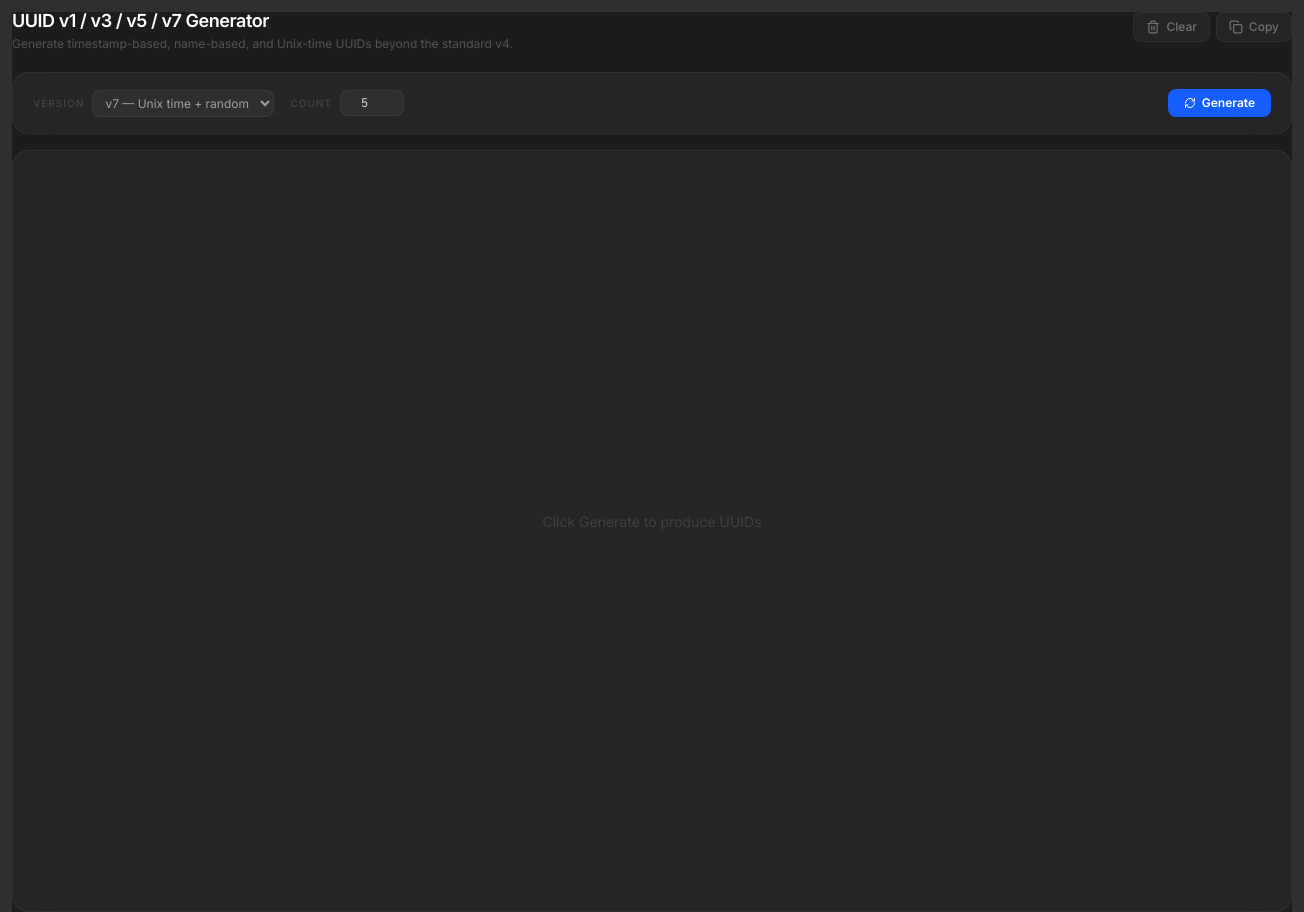
Test: UuidVersionsGenerator › generates v7 UUIDs by default, respecting quantity
Replace the text in the number field showing "5" with "3": (372, 103) [340, 90, 404, 116]
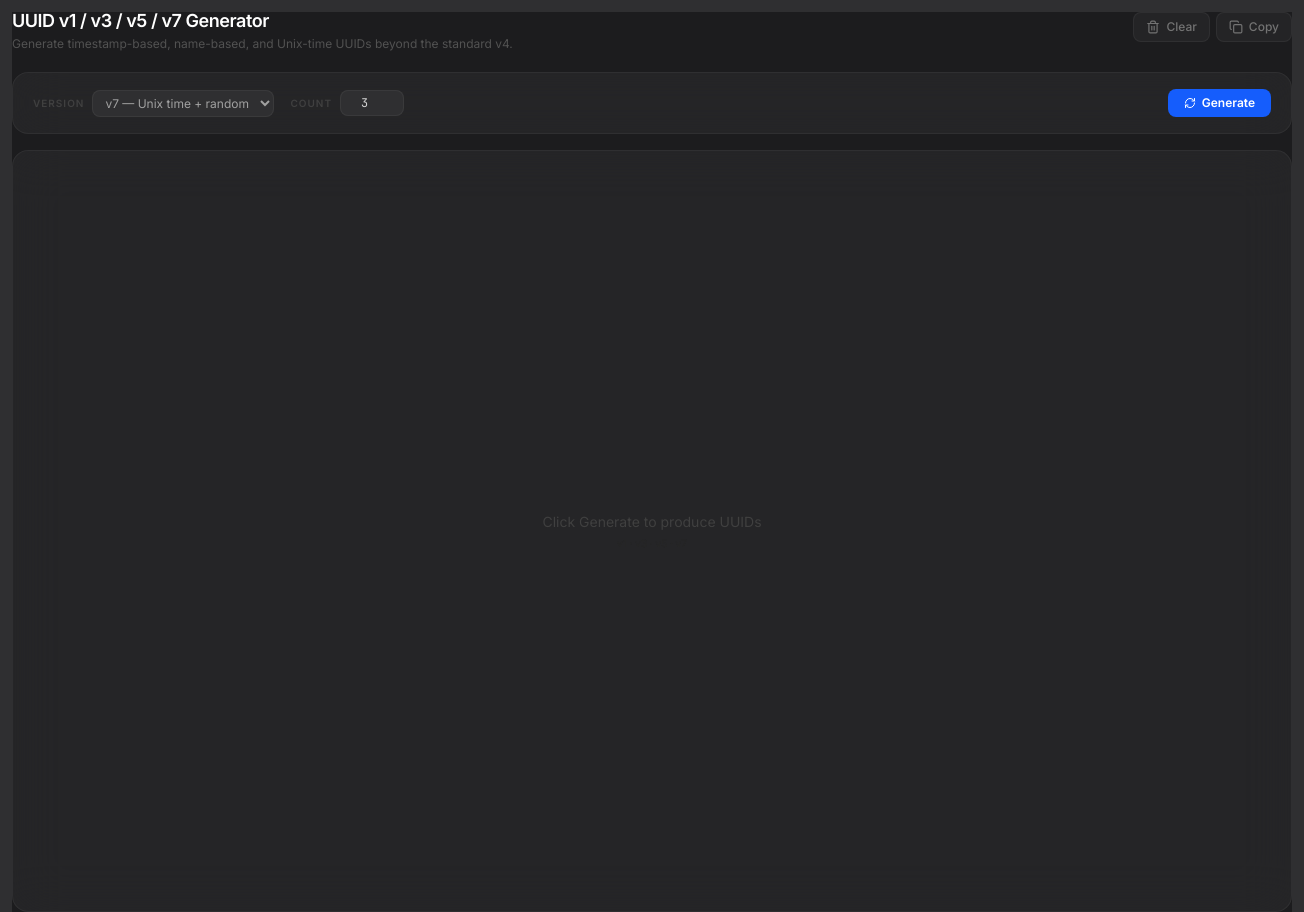
Click the button "Generate": (1219, 103) [1168, 89, 1271, 117]
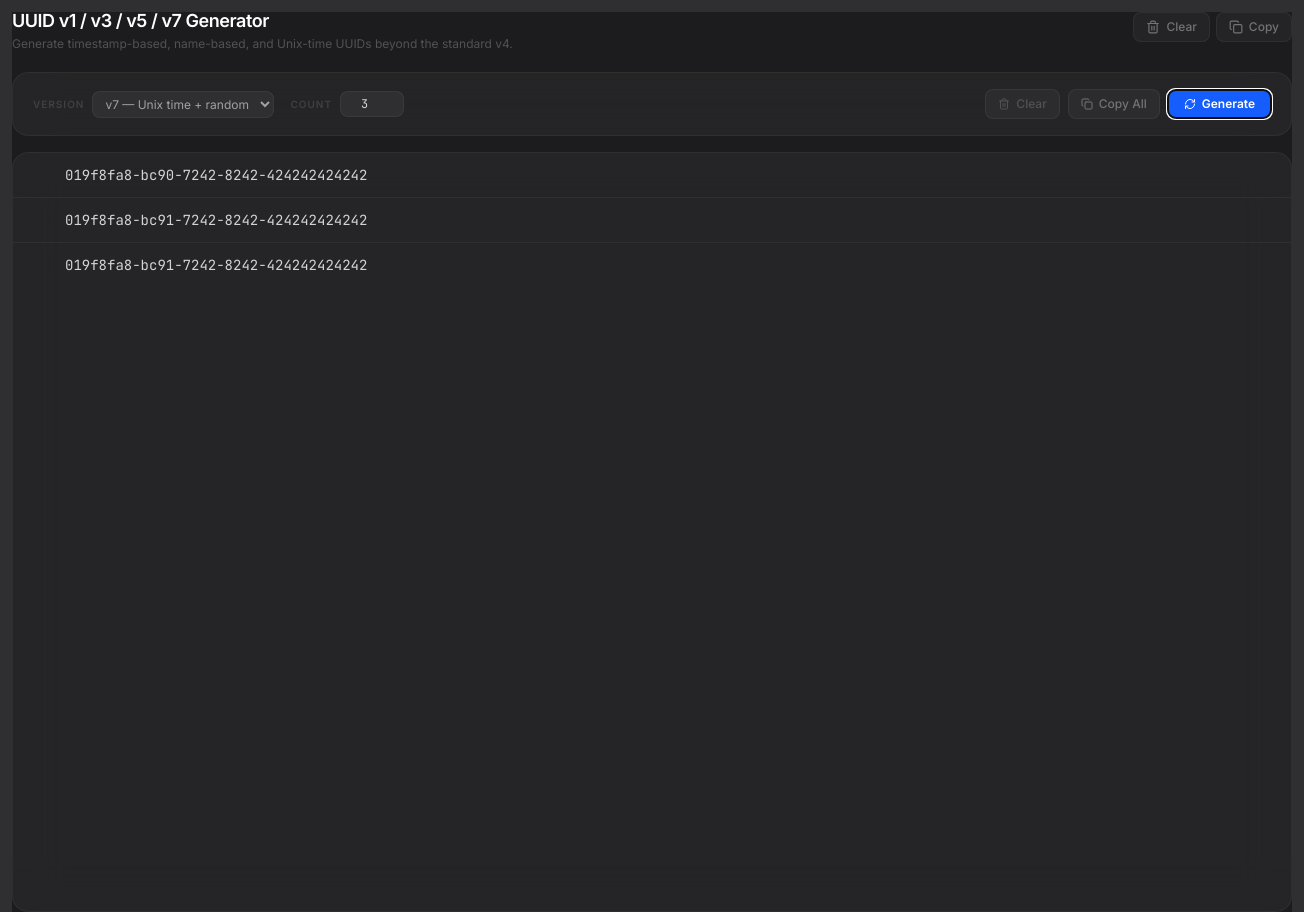
Expected: the number of list items is 3, [13, 153, 1291, 198]; [13, 198, 1291, 243]; [47, 256, 367, 274]
